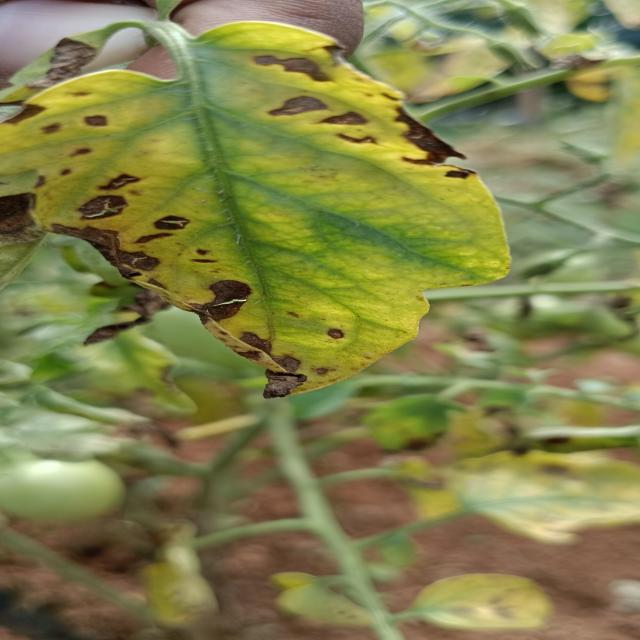tomato_early blight: (0, 20, 509, 397)
